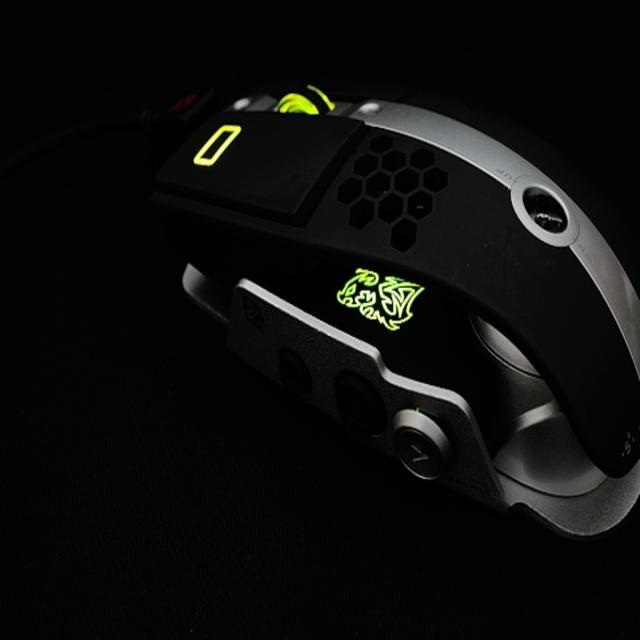Computer-mouse: (135, 80, 639, 572)
